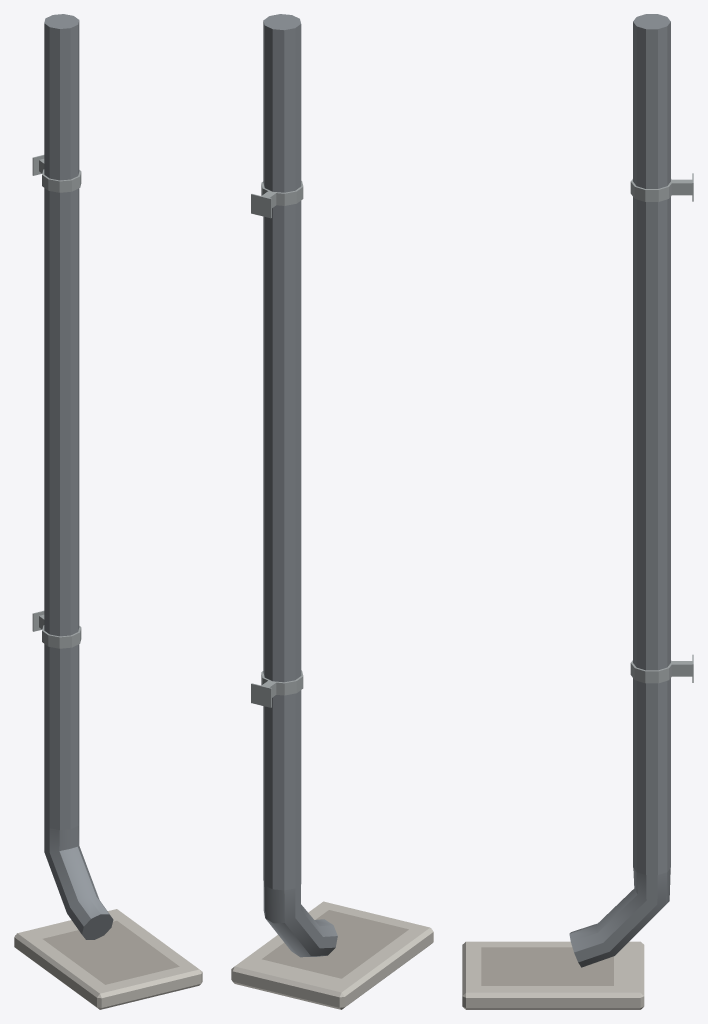
File: SC_Bld_Villa_Downspout_Shoe.gltf
3 renders of one model, left to right at view 1: azimuth 30°, elevation 25°; view 2: azimuth 150°, elevation 25°; view 3: azimuth 270°, elevation 25°, orthographic. The views are drawn at different scales.
Parts seen in each view (by area): view 1: SC_Bld_Villa_Downspout_Shoe; view 2: SC_Bld_Villa_Downspout_Shoe; view 3: SC_Bld_Villa_Downspout_Shoe.
Boxes of the visible parts, bbox=[...] form: SC_Bld_Villa_Downspout_Shoe: bbox=[14, 14, 202, 1009]; SC_Bld_Villa_Downspout_Shoe: bbox=[231, 14, 433, 1009]; SC_Bld_Villa_Downspout_Shoe: bbox=[462, 14, 693, 1009].
Bounding box in the file's own units: 0.34 × 2.8 × 0.61.
1 material, 1 textured.
